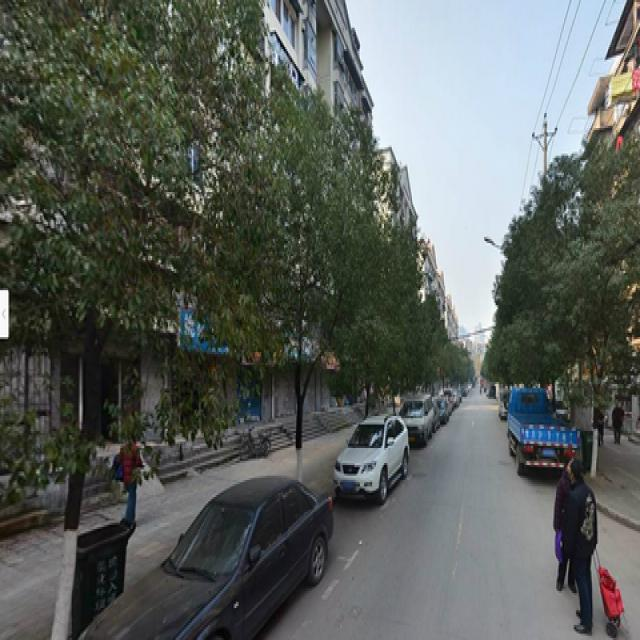cinn: (36, 17, 181, 559), (237, 64, 339, 461)
